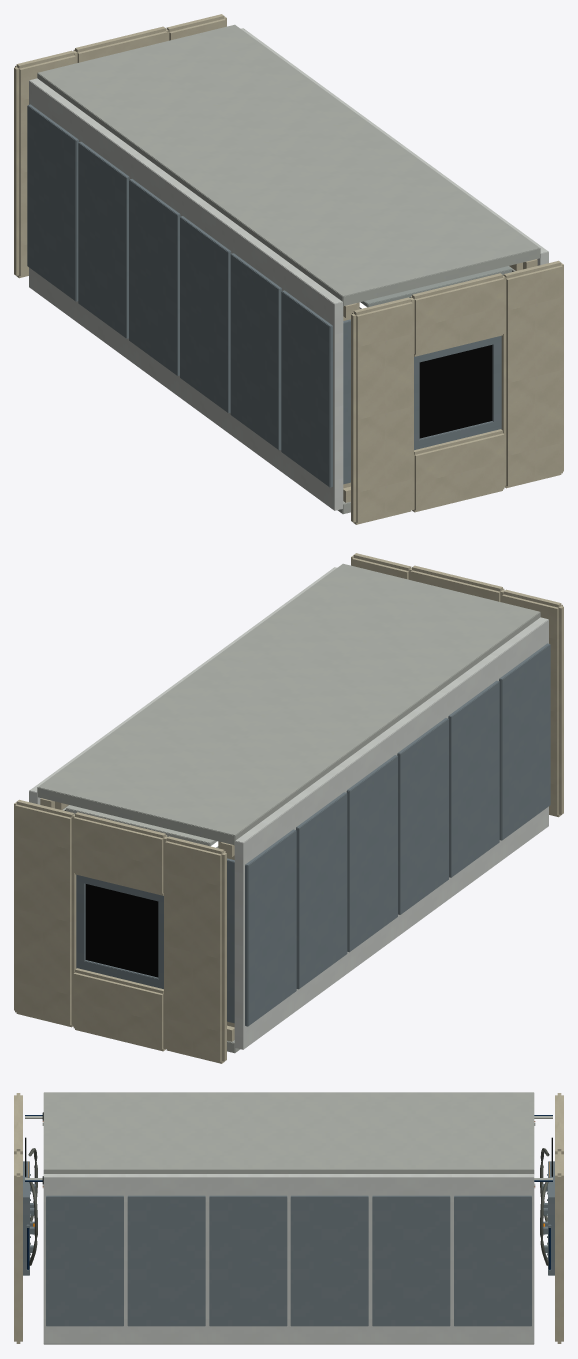
File: destiny.glb
3 renders of one model, top to bottom at view 1: azimuth 30°, elevation 25°; view 2: azimuth 150°, elevation 25°; view 3: azimuth 270°, elevation 25°, orthographic. The views are drawn at different scales.
Parts seen in each view (by area): view 1: destiny_detailed; view 2: destiny_detailed; view 3: destiny_detailed.
Boxes of the visible parts, x1,y1,x2,y2 form: destiny_detailed: [14, 14, 563, 524]; destiny_detailed: [14, 553, 563, 1063]; destiny_detailed: [14, 1092, 563, 1344].
Size of the model in its own units: 3.18 by 3 by 8.54.
25 materials, 15 textured.
